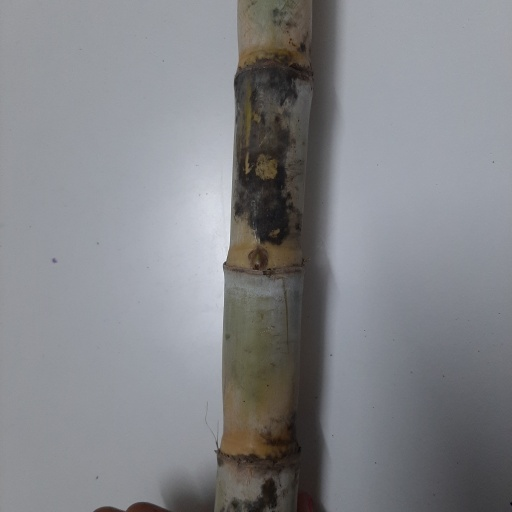Bud: (249, 249, 268, 270)
